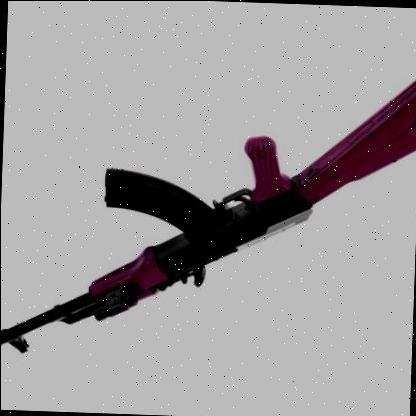rifle: (2, 56, 416, 386)
